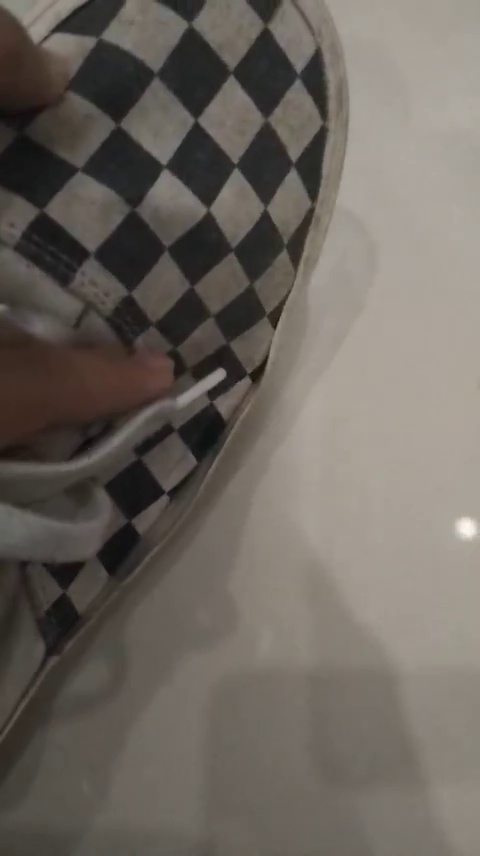bonding: (74, 374, 261, 644)
